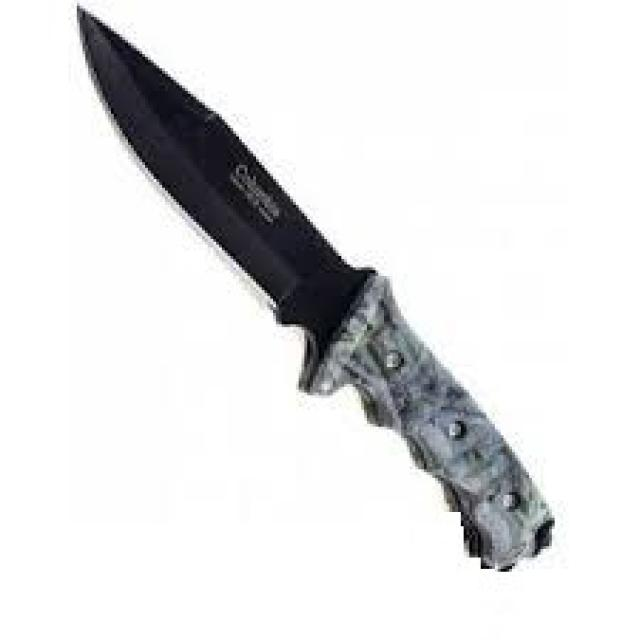knife: (72, 5, 559, 579)
